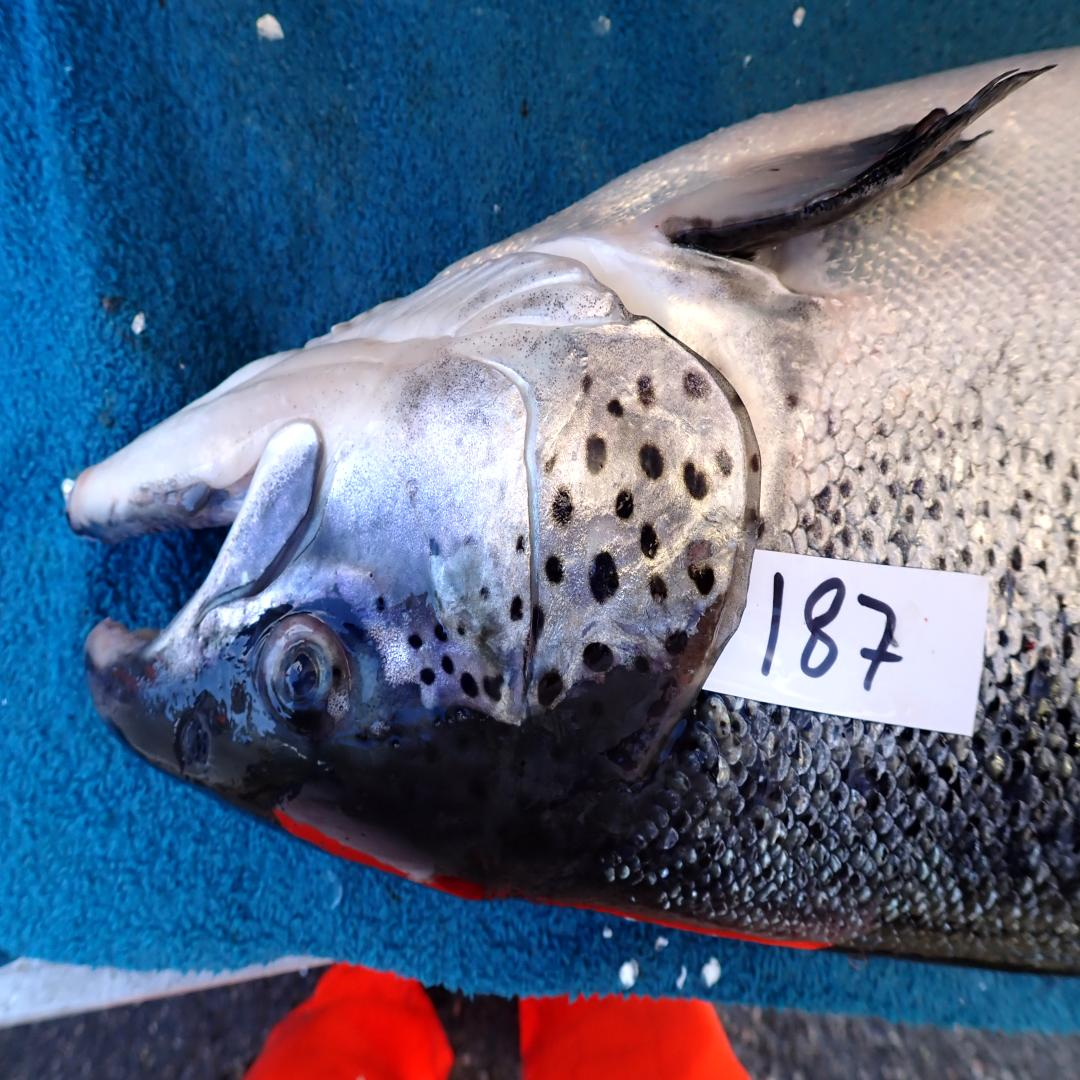roi: (320, 241, 759, 727)
